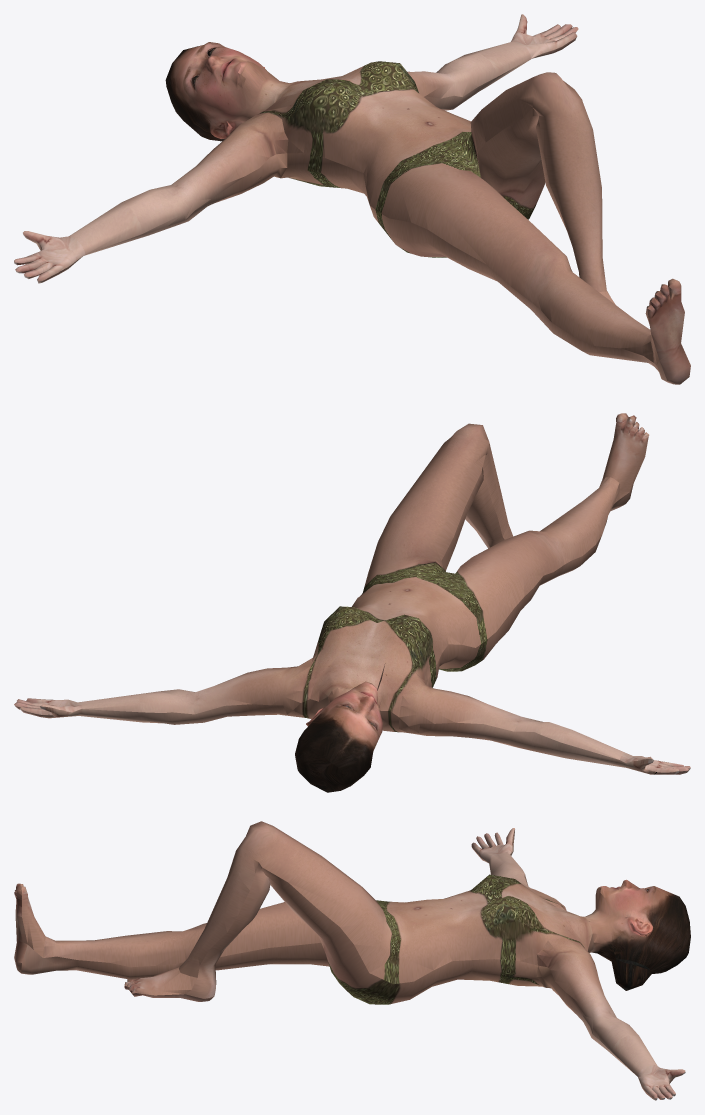
File: bikini woman.FBX
The picture shows the model from 3 angles, top to bottom: view 1: azimuth 30°, elevation 25°; view 2: azimuth 150°, elevation 25°; view 3: azimuth 270°, elevation 25°; orthographic projection. The views are drawn at different scales.
Visible parts, largest first — view 1: SWom0001-S; view 2: SWom0001-S; view 3: SWom0001-S.
Boxes of the visible parts, <box> form: SWom0001-S: <box>14,14,690,384</box>; SWom0001-S: <box>14,413,690,792</box>; SWom0001-S: <box>14,821,690,1100</box>.
Size of the model in its own units: 1.61 by 0.5268 by 1.75.
